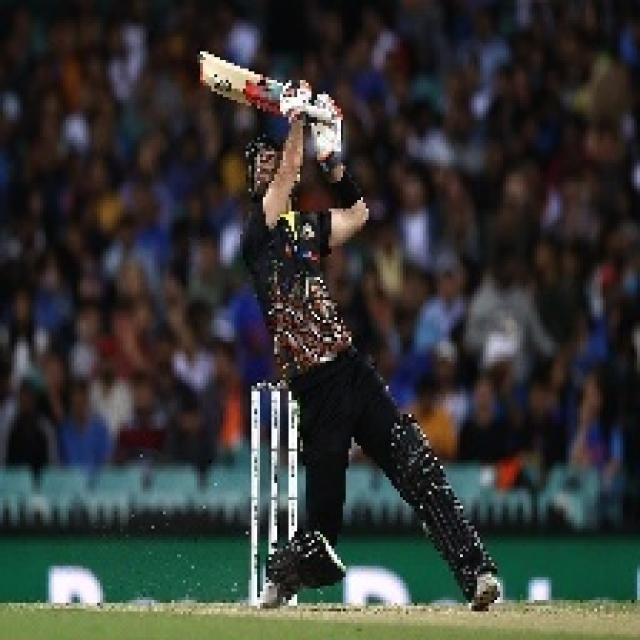batsman: (187, 33, 528, 616)
wicket: (238, 373, 308, 617)
